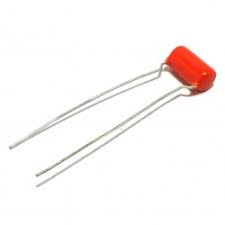ceramic capacitor: (112, 35, 225, 118)
